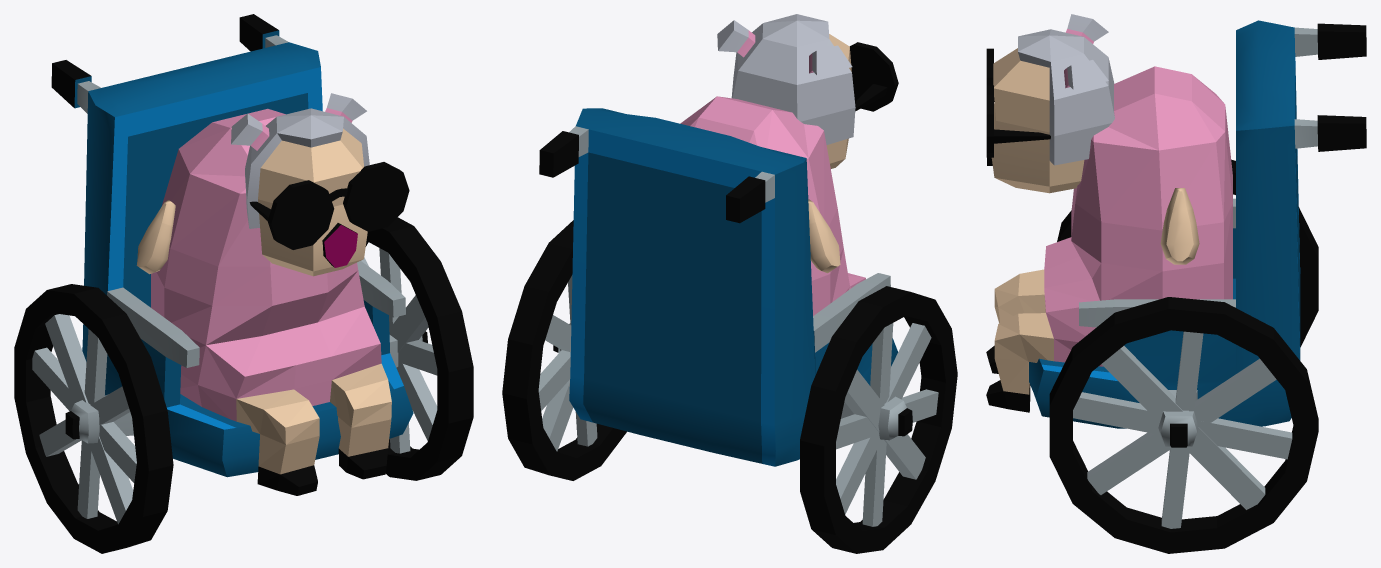
Rendered from Granny.fbx.
The picture shows the model from 3 angles, left to right: view 1: azimuth 30°, elevation 25°; view 2: azimuth 150°, elevation 25°; view 3: azimuth 270°, elevation 25°; orthographic projection.
Visible parts, largest first — view 1: Corps, Fauteille, WheelD, WheelG, Head, VerreD, verreG, BrasG1, Bouche; view 2: Fauteille, WheelD, WheelG, Head, Corps, VerreD, BrasG1; view 3: Corps, WheelG, Fauteille, Head, WheelD, BrasG, verreG.
Boxes of the visible parts, bbox=[...] form: Corps: bbox=[151, 108, 391, 495]; Fauteille: bbox=[51, 14, 427, 477]; WheelD: bbox=[14, 284, 173, 553]; WheelG: bbox=[361, 217, 473, 480]; Head: bbox=[231, 93, 369, 276]; VerreD: bbox=[249, 180, 347, 249]; verreG: bbox=[343, 162, 409, 231]; BrasG1: bbox=[136, 200, 175, 274]; Bouche: bbox=[322, 223, 357, 267]; Fauteille: bbox=[539, 108, 912, 466]; WheelD: bbox=[800, 286, 957, 553]; WheelG: bbox=[502, 220, 626, 480]; Head: bbox=[717, 14, 855, 168]; Corps: bbox=[680, 96, 865, 315]; VerreD: bbox=[850, 42, 898, 111]; BrasG1: bbox=[808, 199, 840, 273]; Corps: bbox=[986, 66, 1232, 412]; WheelG: bbox=[1049, 297, 1318, 553]; Fauteille: bbox=[1029, 20, 1366, 447]; Head: bbox=[991, 14, 1114, 193]; WheelD: bbox=[1057, 159, 1318, 347]; BrasG: bbox=[1160, 188, 1199, 264]; verreG: bbox=[986, 85, 1050, 157].
Bounding box in the file's own units: 16.75 × 19.76 × 15.52.
